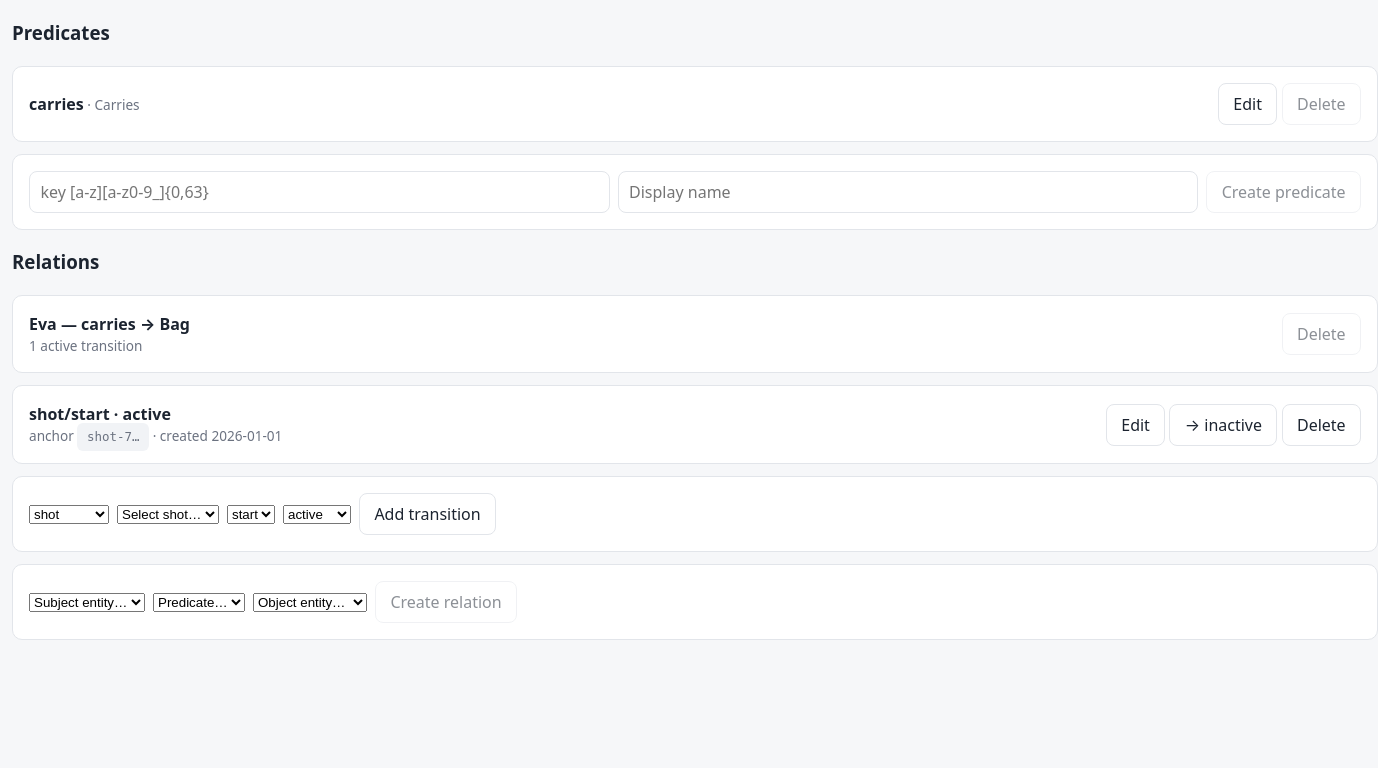
ProjectContinuityPanel authoring (M7D §18.2.3–18.2.4) › blocks a self relation client-side (server remains the authority)
This screenshot has width=1378, height=768.
Select "Eva (character)" in the 5th dropdown at (87, 602), box x1=29 y1=593 x2=145 y2=612
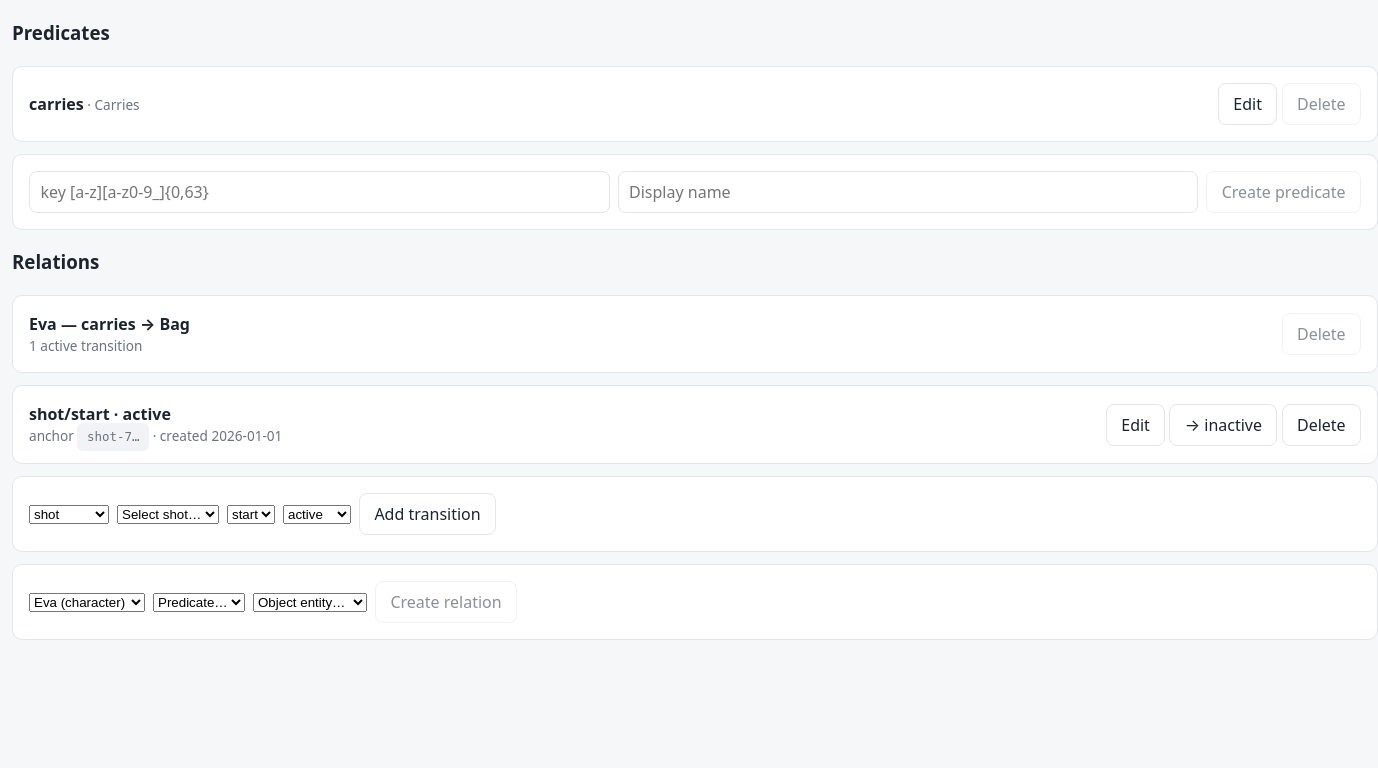
Select "carries" in the 6th dropdown at (199, 602), box x1=153 y1=593 x2=245 y2=612
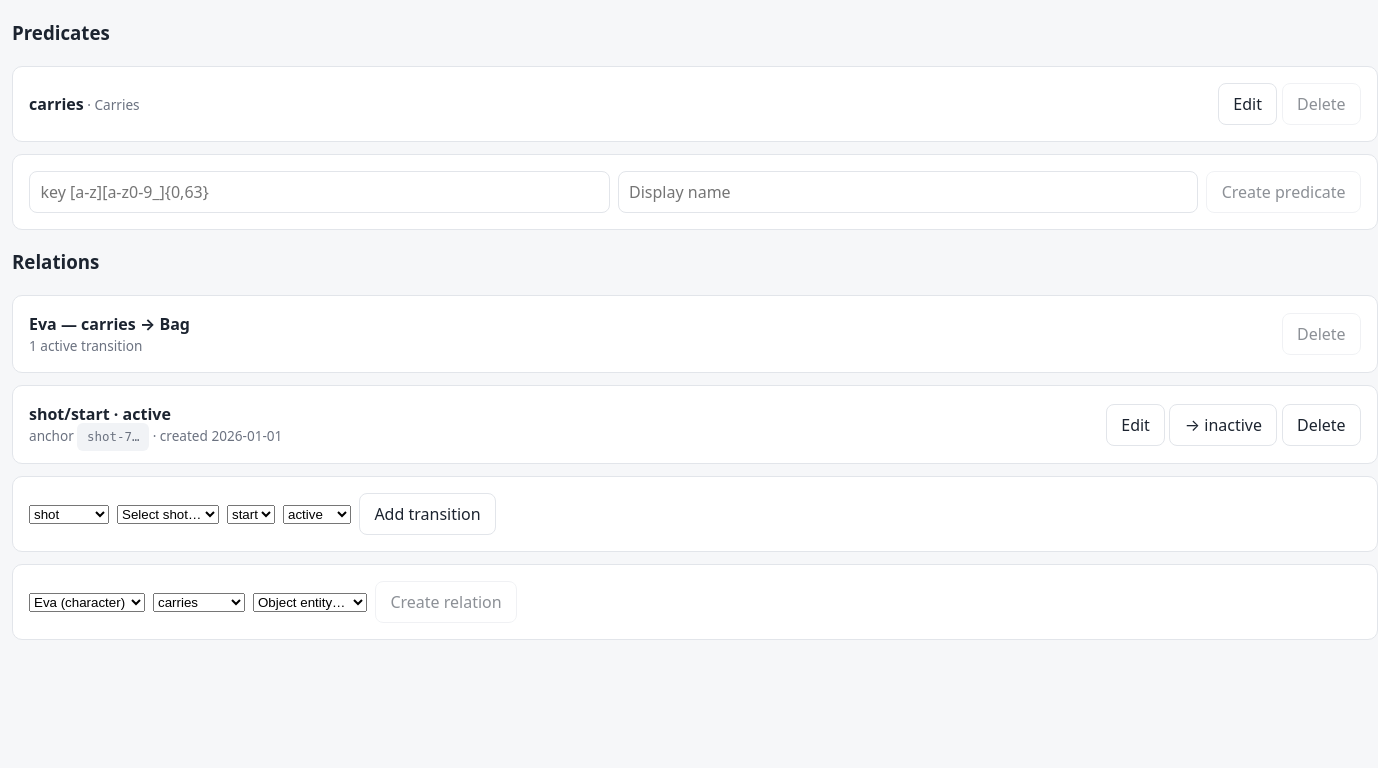
Select "Eva (character)" in the 7th dropdown at (310, 602), box x1=253 y1=593 x2=367 y2=612
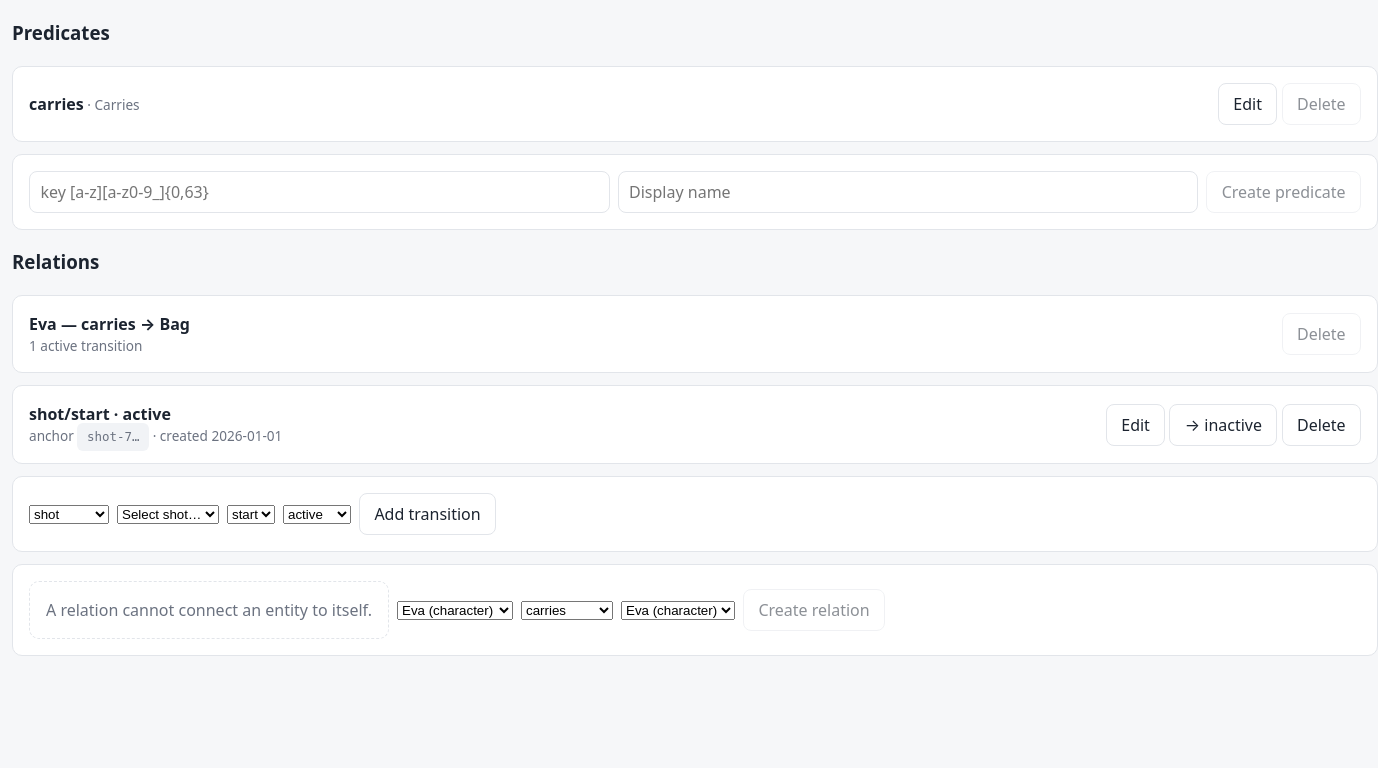
Expected: the button "Create relation" is disabled, x1=743 y1=589 x2=885 y2=631
Now the text "A relation cannot connect an entity to itself" is shown, box x1=46 y1=599 x2=372 y2=621
